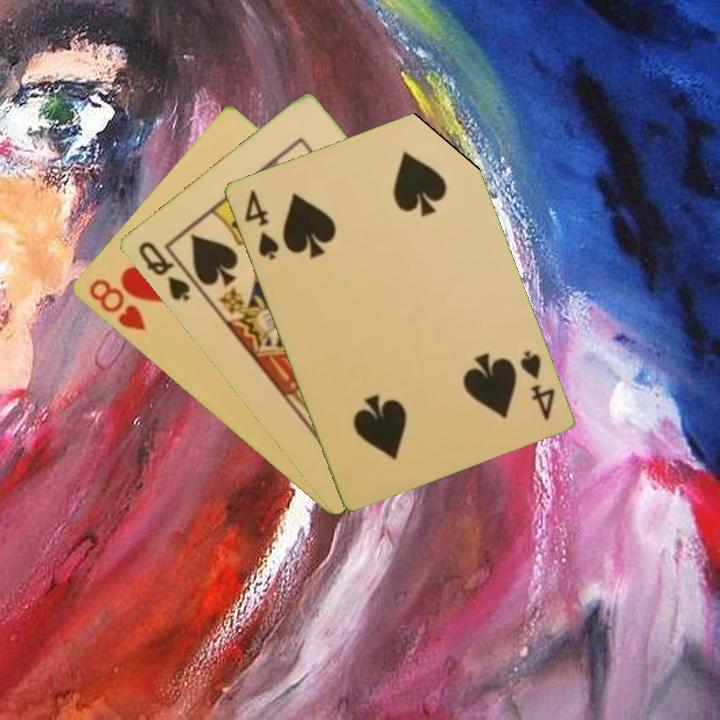4s: (240, 186, 282, 263), (516, 346, 558, 423)
8h: (85, 275, 148, 334)
Qs: (134, 237, 193, 305)
